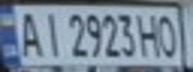2: (63, 9, 87, 58), (100, 10, 124, 58)
3: (115, 10, 139, 58)
9: (81, 9, 103, 58)
A: (12, 7, 45, 58)
H: (136, 10, 163, 58)
I: (36, 8, 63, 59)
O: (154, 10, 181, 58)
